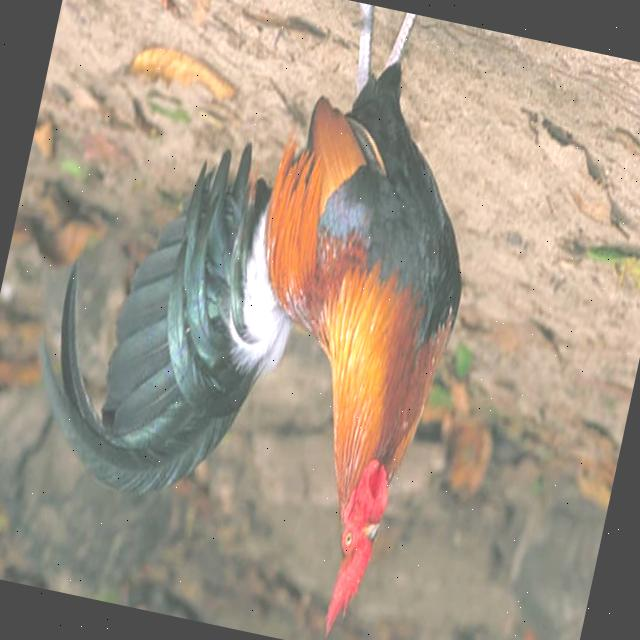Healthy: (0, 0, 557, 640), (0, 86, 343, 555), (274, 413, 427, 635)
